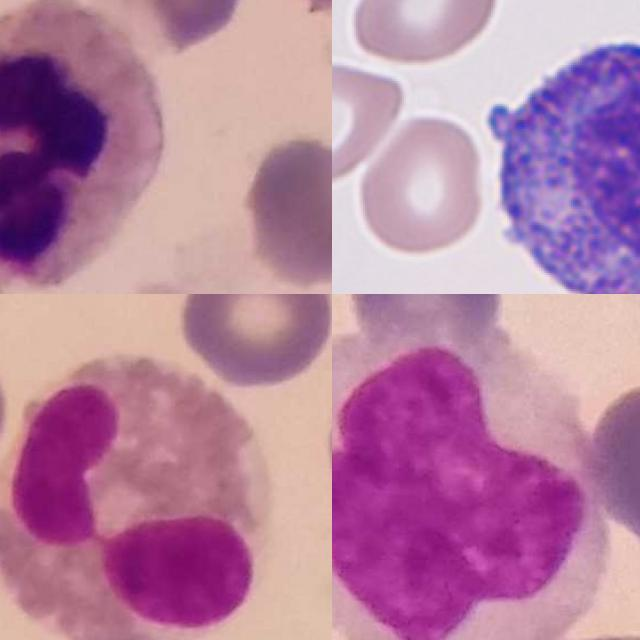Eosinophil: (0, 351, 273, 640)
Lymphocyte: (473, 22, 640, 294)
Monocyte: (332, 313, 608, 640)
Neutrophil: (0, 0, 163, 285)
RBC: (355, 108, 490, 261), (345, 0, 505, 67), (332, 56, 411, 191)
